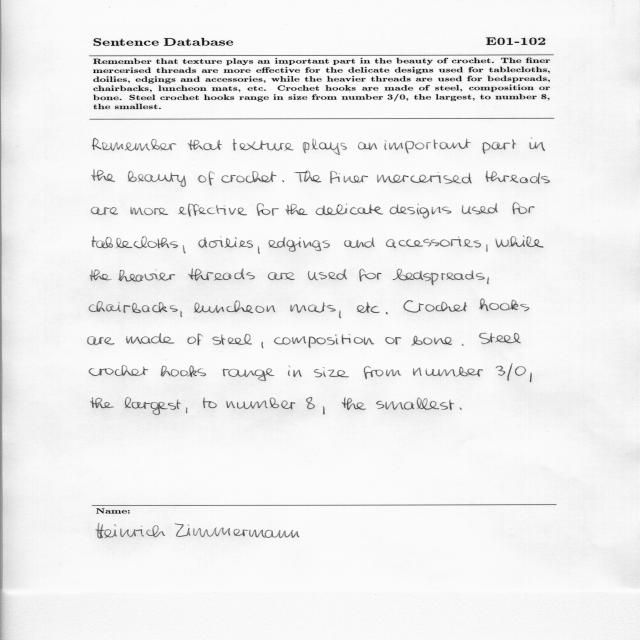word: (392, 269, 485, 285), (274, 334, 374, 348), (384, 139, 471, 154), (377, 172, 472, 184), (386, 236, 481, 248), (93, 138, 177, 151), (89, 301, 178, 313), (194, 301, 275, 314), (92, 236, 178, 248), (377, 397, 455, 410), (125, 397, 181, 415), (268, 237, 330, 252), (128, 171, 186, 187), (390, 204, 451, 219), (178, 204, 247, 217), (485, 171, 550, 184), (403, 300, 468, 313), (188, 269, 255, 281), (227, 398, 296, 409), (118, 269, 175, 282), (316, 204, 383, 215), (233, 139, 294, 151), (303, 139, 347, 155), (413, 367, 483, 377), (223, 368, 274, 381), (222, 171, 277, 183), (198, 236, 253, 248), (480, 299, 530, 312), (89, 365, 148, 376), (496, 363, 526, 381), (496, 236, 544, 247), (127, 333, 175, 344), (290, 302, 336, 313), (160, 366, 206, 377), (483, 139, 516, 154), (364, 366, 401, 379), (479, 333, 521, 344), (330, 171, 368, 183), (213, 334, 253, 345), (462, 203, 498, 215), (308, 269, 347, 280), (411, 336, 452, 346), (357, 302, 388, 315), (314, 367, 349, 377), (344, 237, 375, 248), (188, 140, 222, 150), (294, 171, 321, 183), (342, 397, 366, 410), (131, 207, 169, 215), (92, 169, 115, 182), (359, 269, 382, 282), (257, 203, 279, 216), (513, 202, 535, 214), (198, 171, 215, 186), (91, 398, 114, 409), (90, 269, 111, 281), (286, 204, 308, 215), (88, 336, 114, 345), (91, 207, 118, 215), (268, 272, 295, 280), (529, 138, 545, 151), (188, 334, 203, 345), (288, 366, 302, 377), (203, 398, 217, 409), (358, 142, 377, 150), (385, 337, 401, 345), (306, 397, 315, 409), (183, 245, 186, 253), (530, 373, 532, 383), (261, 342, 264, 348), (486, 244, 488, 252), (323, 407, 325, 415), (258, 247, 260, 254), (487, 278, 489, 285), (339, 311, 341, 318), (180, 311, 182, 317), (186, 408, 188, 414), (460, 407, 462, 410), (282, 180, 284, 182), (462, 344, 464, 346)
